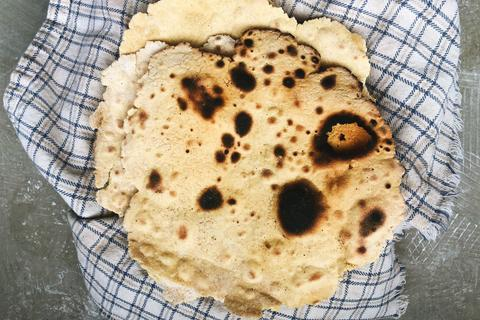chapati: (91, 0, 405, 315)
